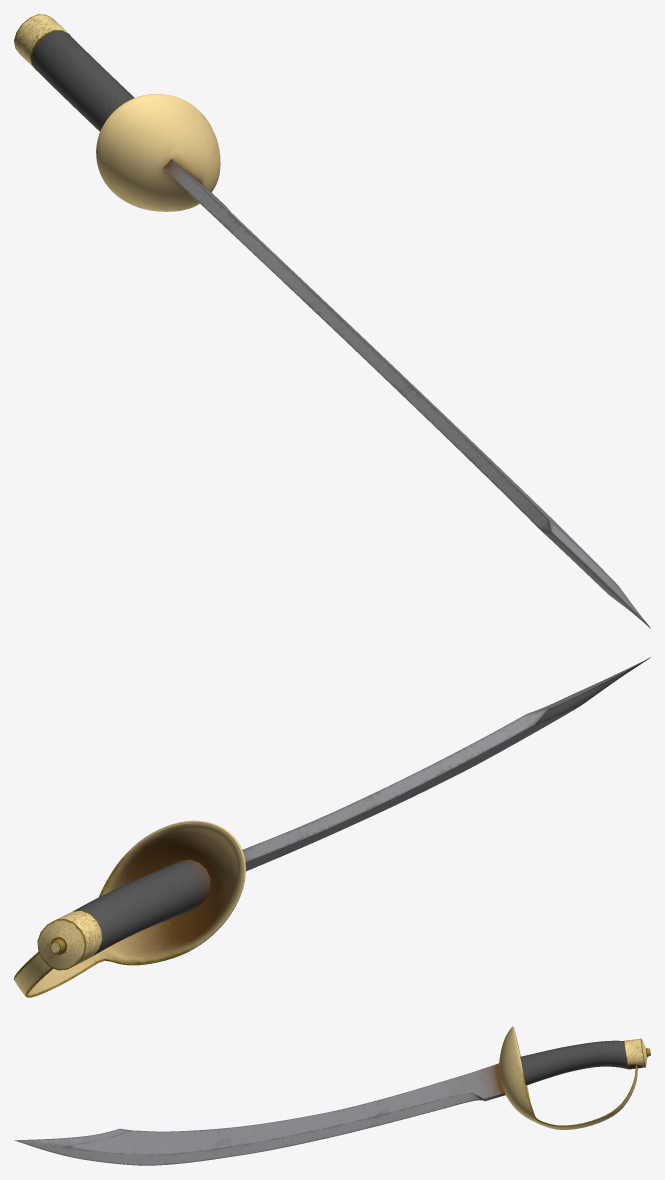
Rendered from pirate_cutlass.glb.
The picture shows the model from 3 angles, top to bottom: view 1: azimuth 30°, elevation 25°; view 2: azimuth 150°, elevation 25°; view 3: azimuth 270°, elevation 25°; orthographic projection. The views are drawn at different scales.
Parts seen in each view (by area): view 1: Cube.003; view 2: Cube.003; view 3: Cube.003.
Boxes of the visible parts, x1=… form: Cube.003: x1=14, y1=14, x2=650, y2=628; Cube.003: x1=14, y1=657, x2=650, y2=997; Cube.003: x1=14, y1=1026, x2=650, y2=1165.
Size of the model in its own units: 0.7587 by 1.07 by 5.4.
1 material, 1 textured.
